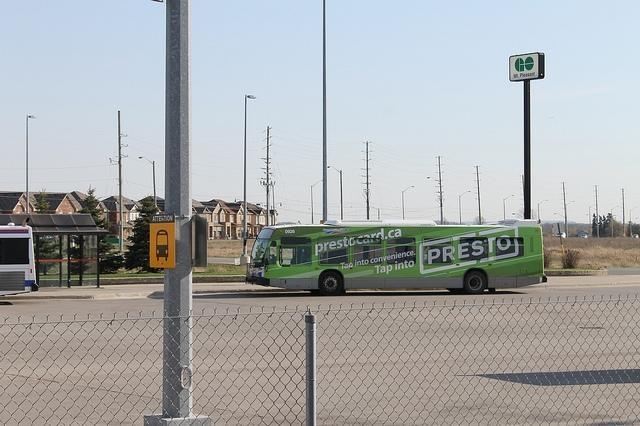bus: (243, 217, 545, 299), (2, 224, 36, 298)
